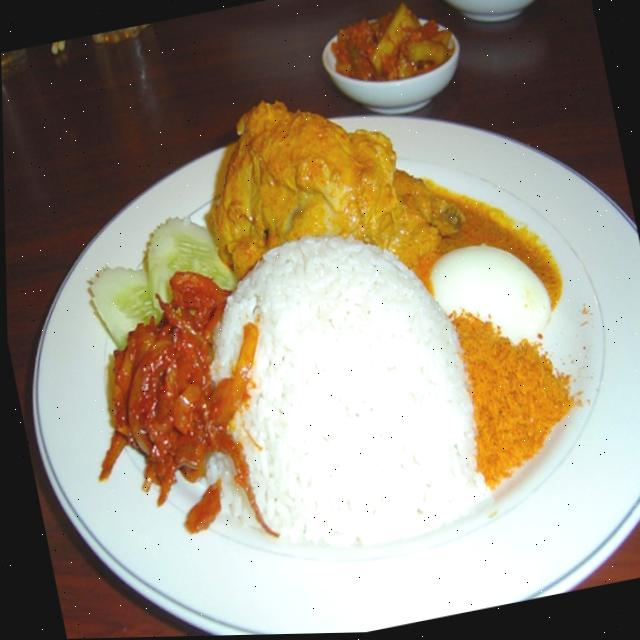米饭主食: (43, 70, 640, 639)
